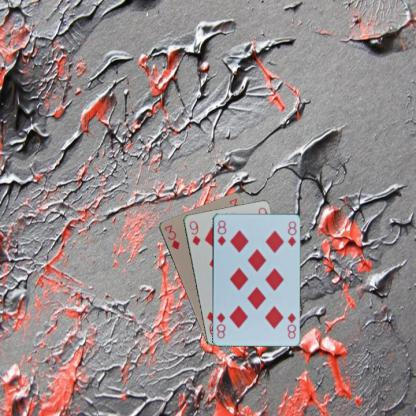3d: (162, 222, 181, 251)
8d: (284, 310, 297, 340), (215, 218, 227, 247)
9d: (186, 218, 202, 247)
